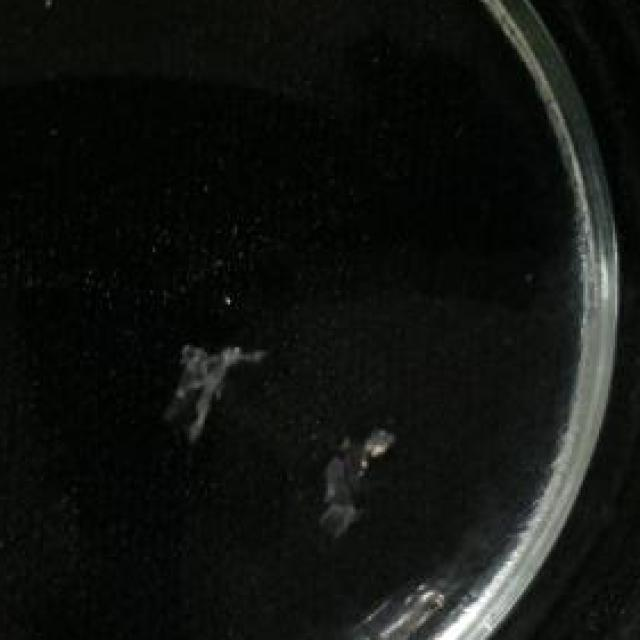Microplastic: (155, 328, 257, 448), (312, 421, 403, 547)
